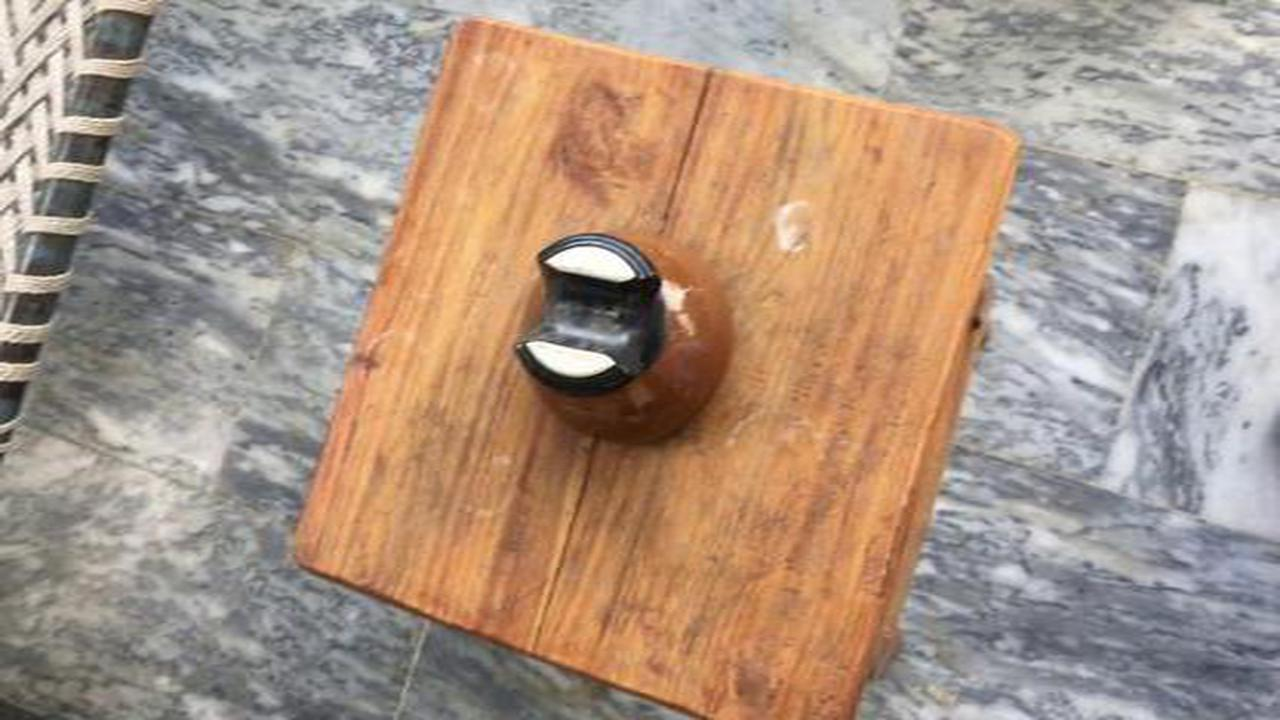insulator_pin: (493, 218, 748, 461)
